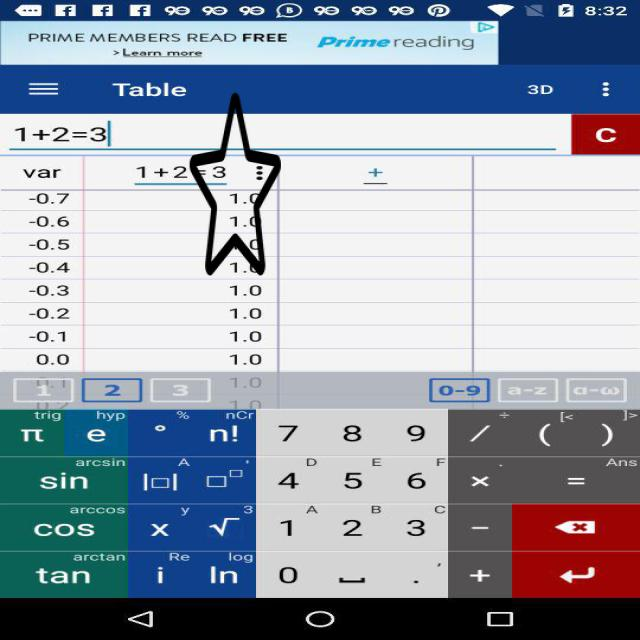forced continuity: (190, 89, 281, 279)
